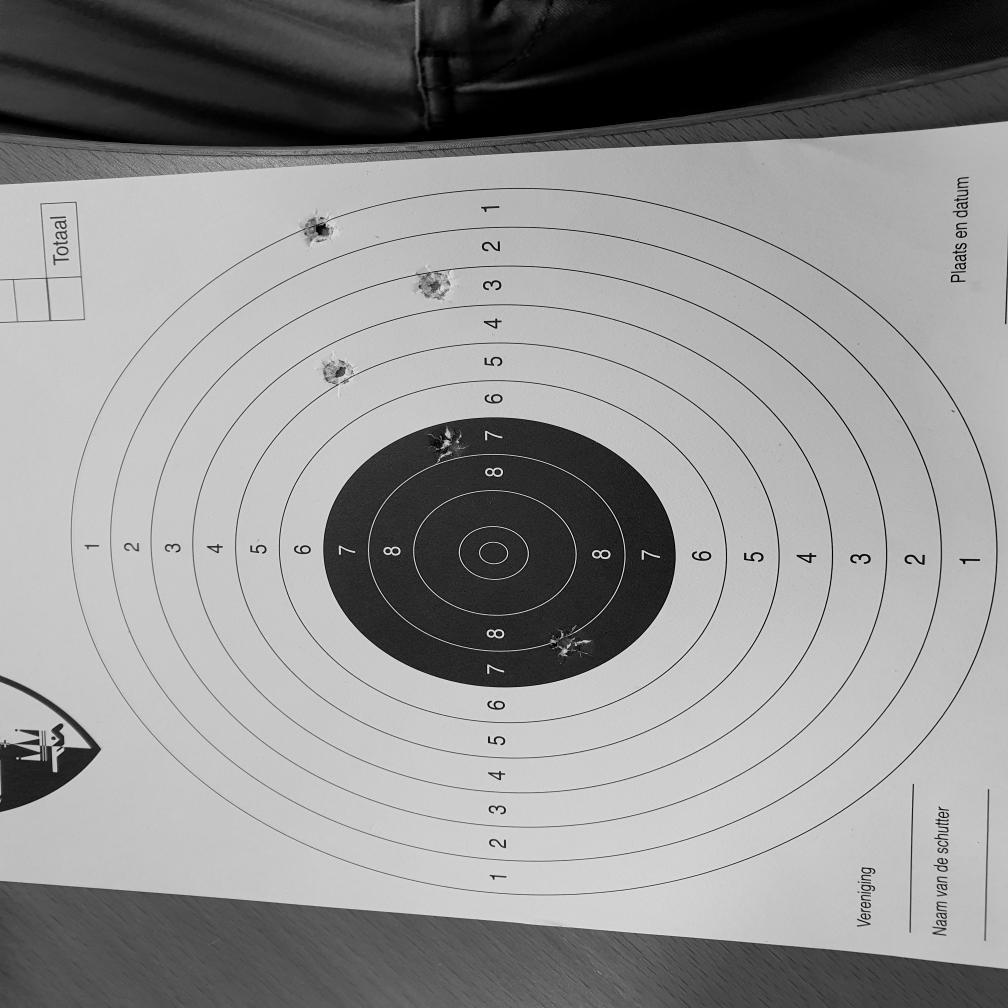1: (292, 208, 342, 248)
3: (410, 268, 463, 298)
5: (311, 354, 366, 391)
7: (422, 426, 478, 463)
8: (539, 624, 597, 667)
Target: (67, 188, 999, 896)
black_contour: (323, 417, 674, 688)
